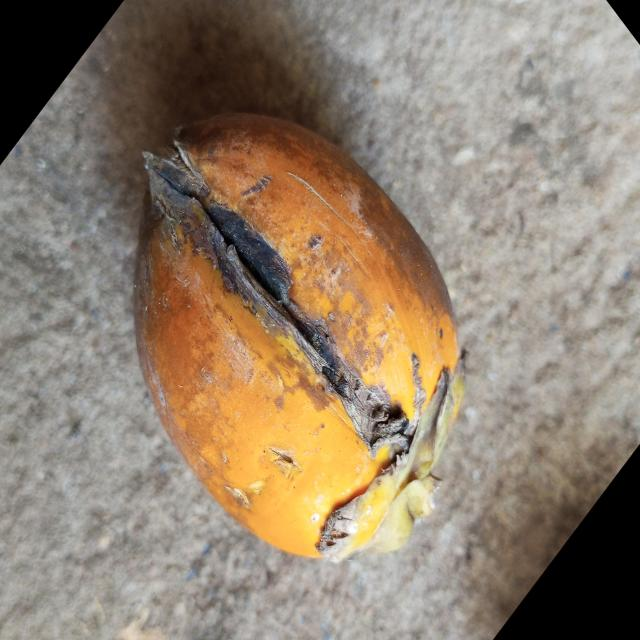damaged: (135, 114, 464, 561)
